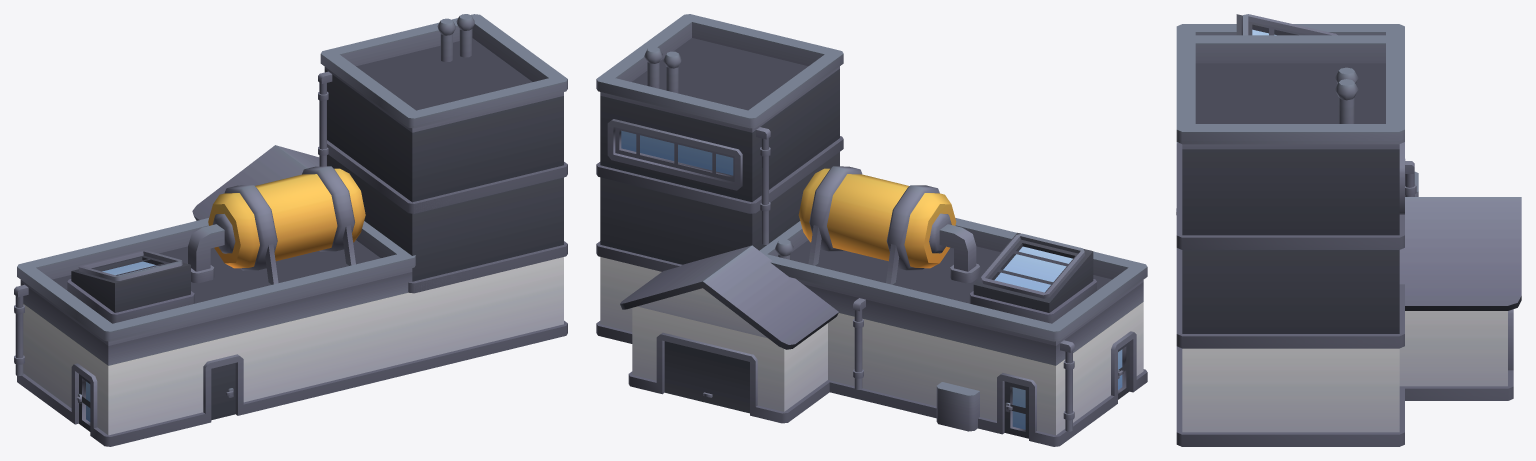
The model's file is k-city-kit-industrial-building-r.glb.
3 views of the same model, side by side, from view 1: azimuth 30°, elevation 25°; view 2: azimuth 150°, elevation 25°; view 3: azimuth 270°, elevation 25° (orthographic). The views are drawn at different scales.
Parts seen in each view (by area): view 1: building-r; view 2: building-r; view 3: building-r.
Part boxes in pixels (x1,y1,x2,y2): building-r: [14, 14, 567, 446]; building-r: [596, 14, 1147, 446]; building-r: [1176, 14, 1521, 446].
Bounding box in the file's own units: 2.48 × 1.39 × 1.27.
Materials: 1 (1 with a texture image).
